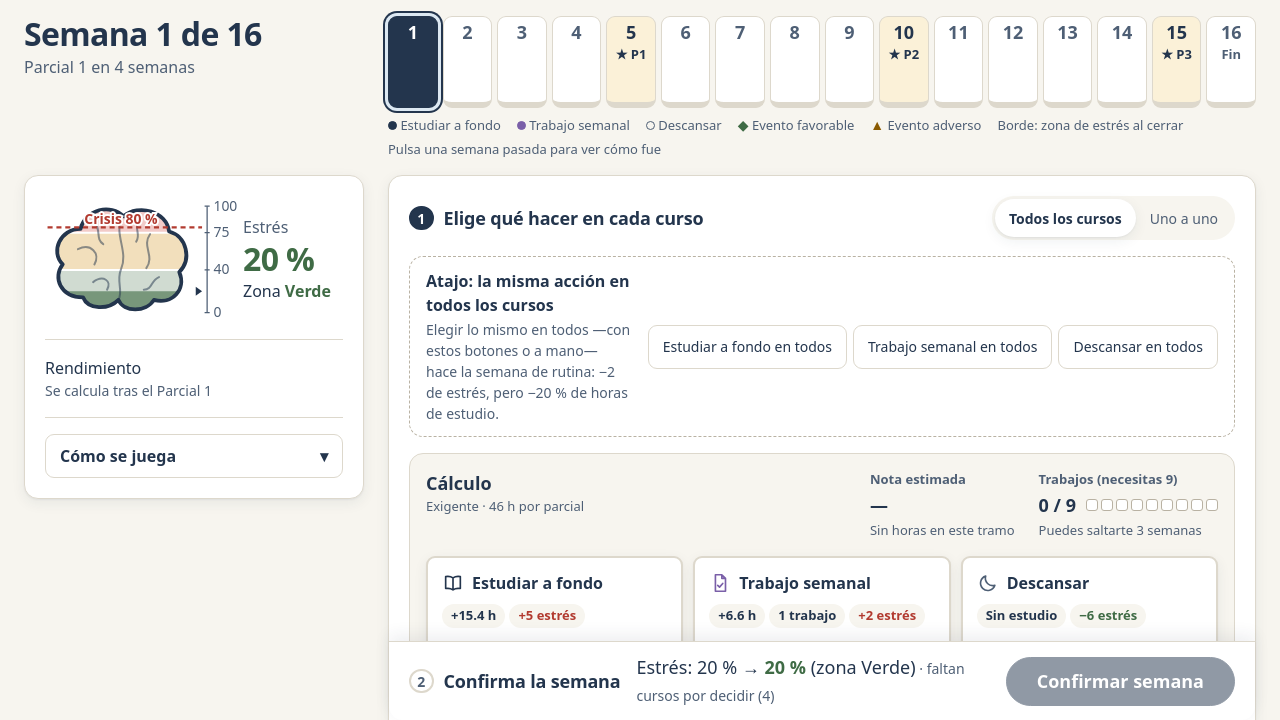
interfaz › muestra cómo cambia la nota estimada al elegir una decisión
Check: the element "Cálculo" shows "Sin horas en este tramo", box [870,520,1015,538]
Step 1. Click the button "Estudiar a fondo +15.4 h +5 estrés" → [555, 604], box [426,556,683,652]
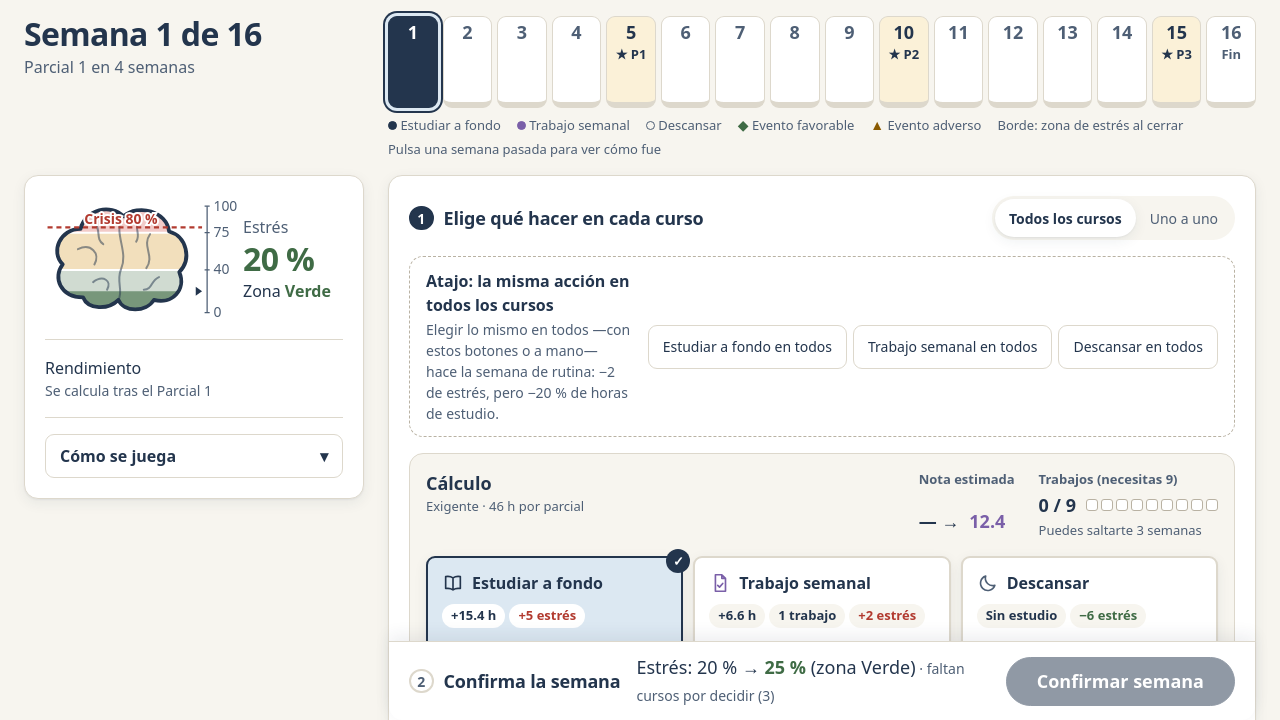
Check: the element "Cálculo" shows "— → 12.4", box [409,453,1235,669]
Step 2. Click the button "Trabajo semanal" → [822, 604], box [693,556,951,652]
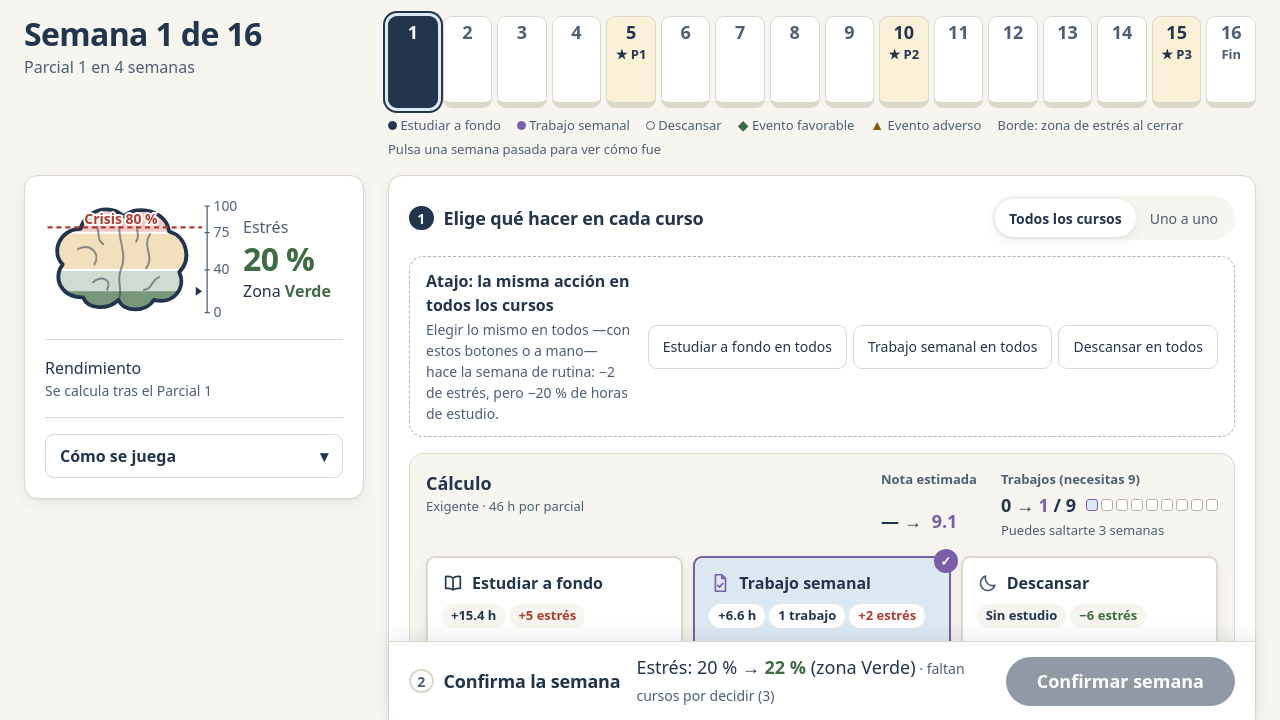
Check: the element "Cálculo" shows "0 → 1 / 9", box [409,453,1235,669]
Step 3. Click the button "Descansar Sin estudio −6 estrés" → [1089, 604], box [961,556,1218,652]
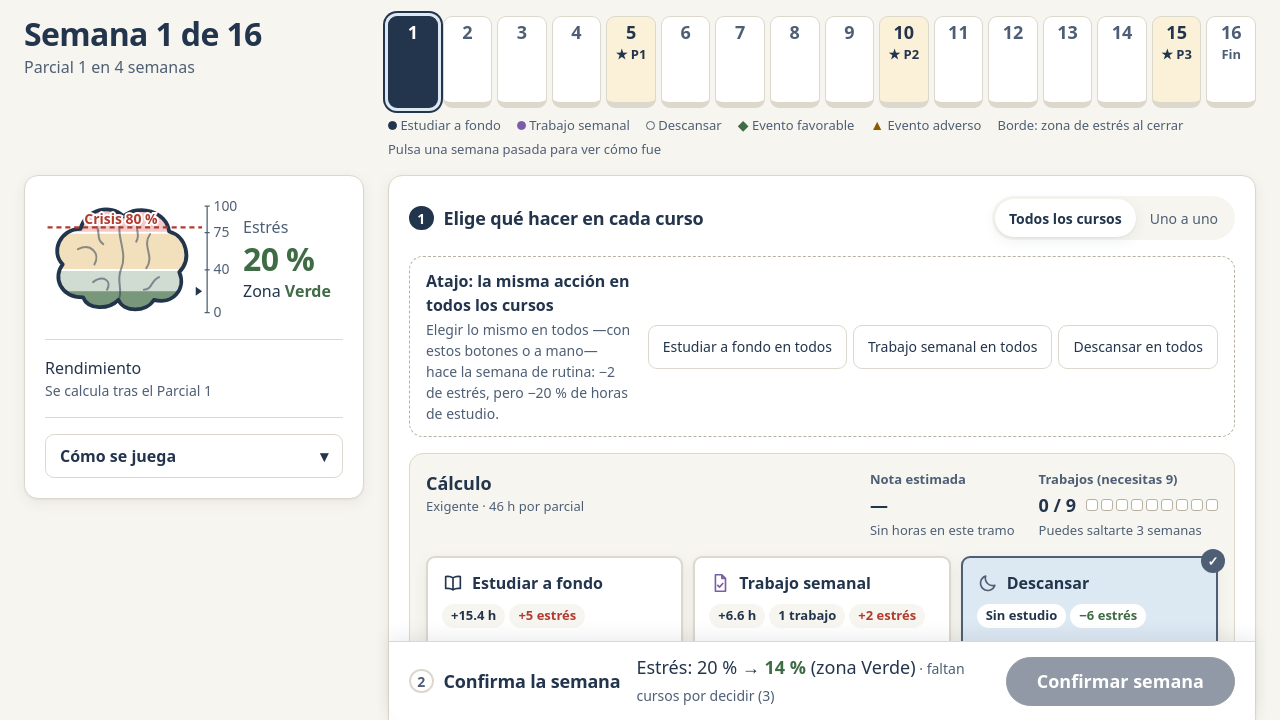
Check: the element "Cálculo" no longer shows "→"
Check: the element "Cálculo" shows "Sin horas en este tramo", box [870,520,1015,538]
